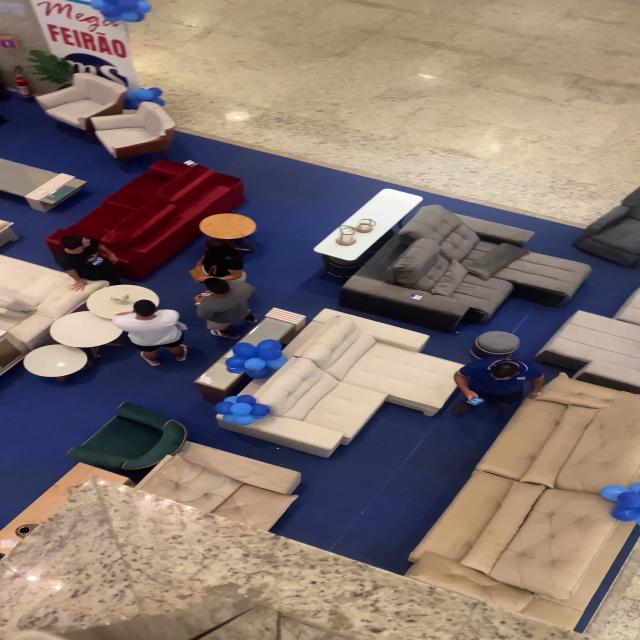person: (452, 352, 545, 420), (112, 301, 192, 367), (55, 232, 133, 292), (191, 279, 262, 340), (190, 240, 246, 289)
